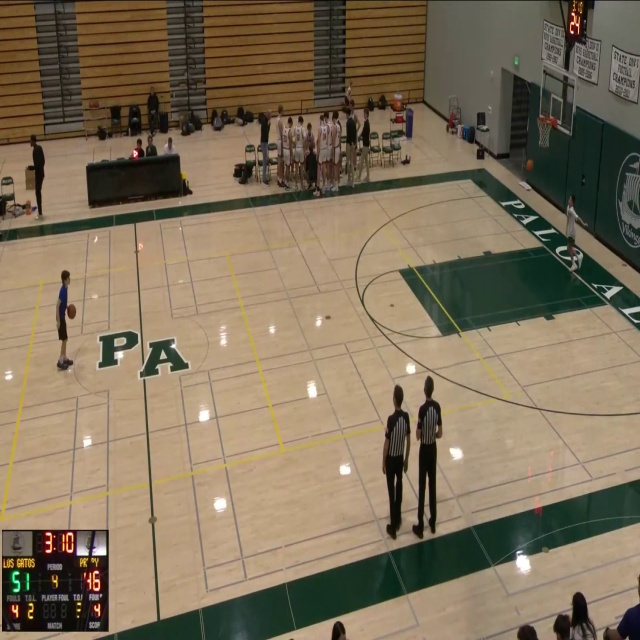Basketball: (66, 304, 76, 319), (525, 159, 534, 171)
